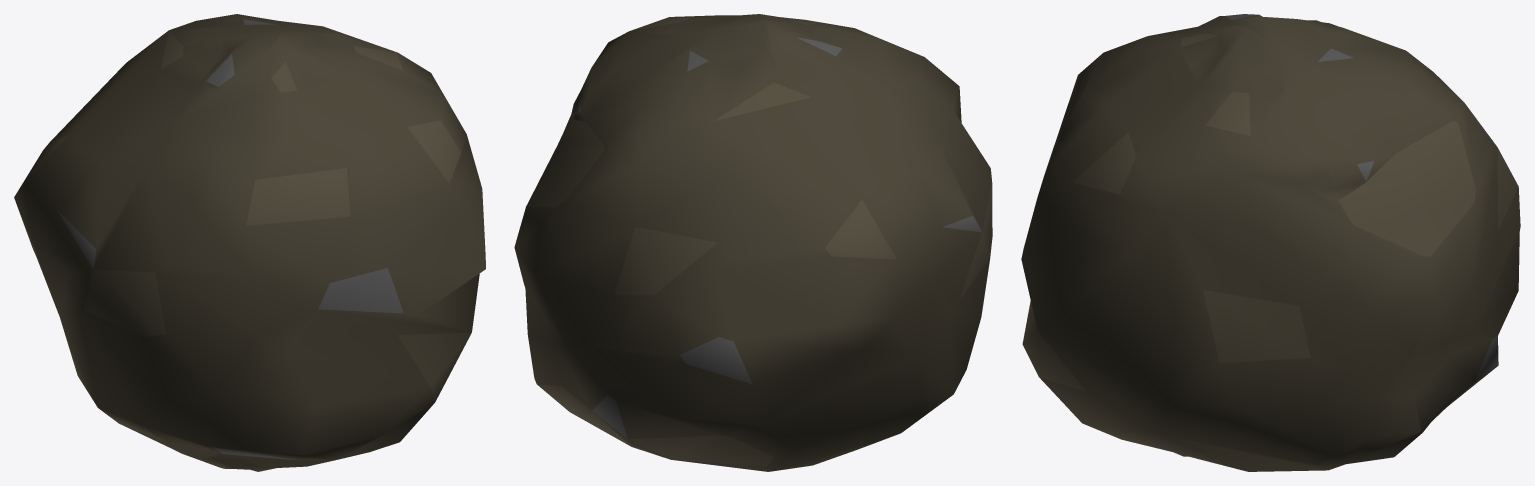
Rendered from Boulder.fbx.
3 views of the same model, side by side, from view 1: azimuth 30°, elevation 25°; view 2: azimuth 150°, elevation 25°; view 3: azimuth 270°, elevation 25° (orthographic). The views are drawn at different scales.
Parts seen in each view (by area): view 1: pSphere1; view 2: pSphere1; view 3: pSphere1.
Part boxes in pixels (bbox=[...]): pSphere1: bbox=[14, 14, 485, 471]; pSphere1: bbox=[514, 14, 992, 471]; pSphere1: bbox=[1021, 14, 1520, 471].
Bounding box in the file's own units: 3.78 × 4.12 × 4.22.
